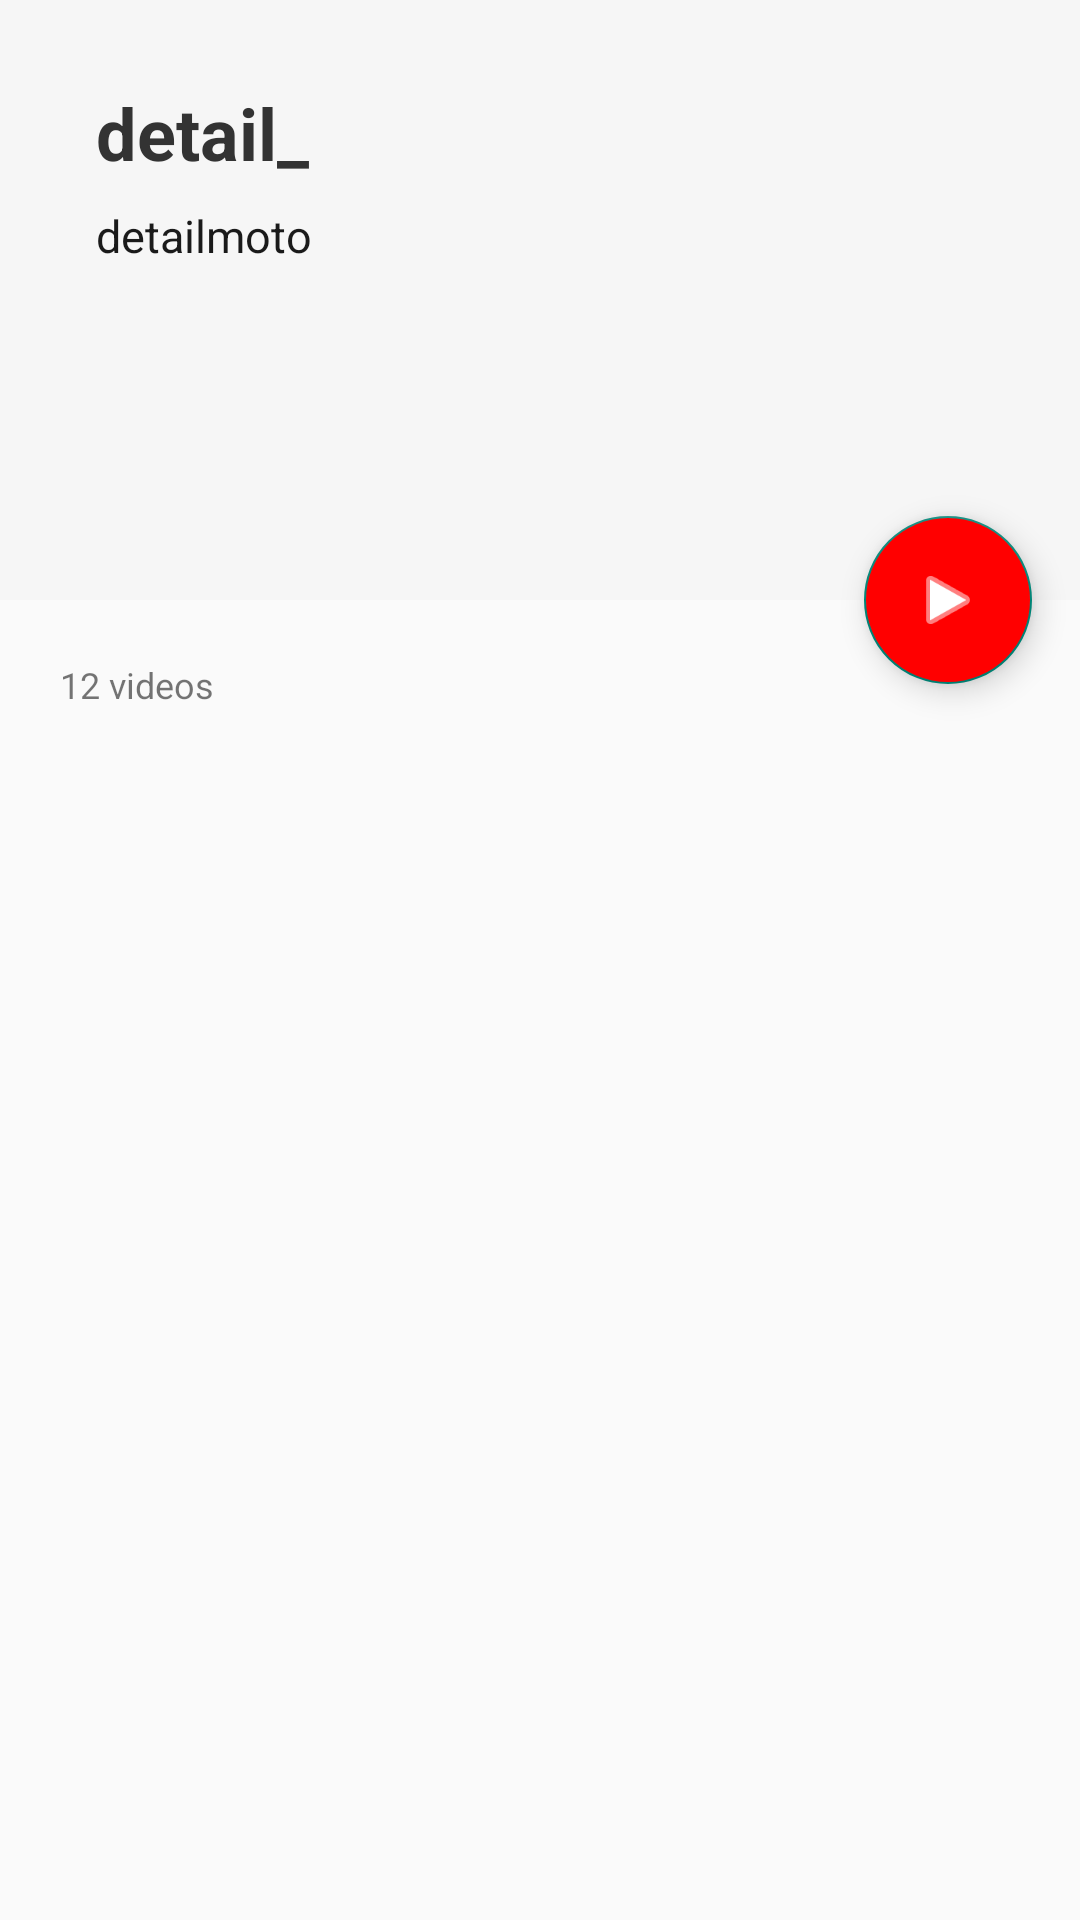

Icons on this 1080w x 1920h Android screen, each with the point to tap as point (x, y):
play: point (948, 600)
